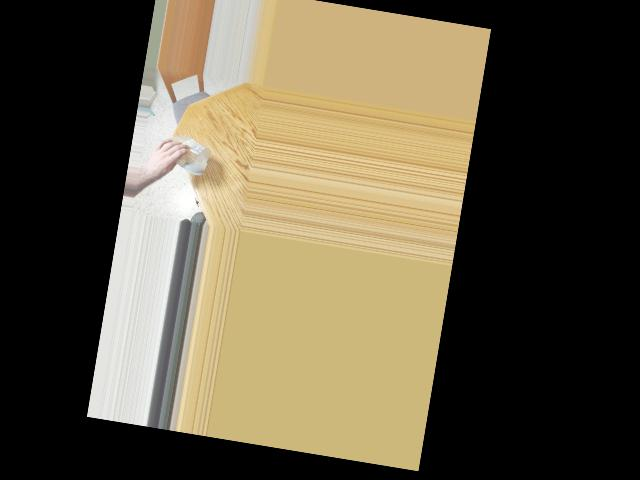cheese: (166, 136, 207, 171)
